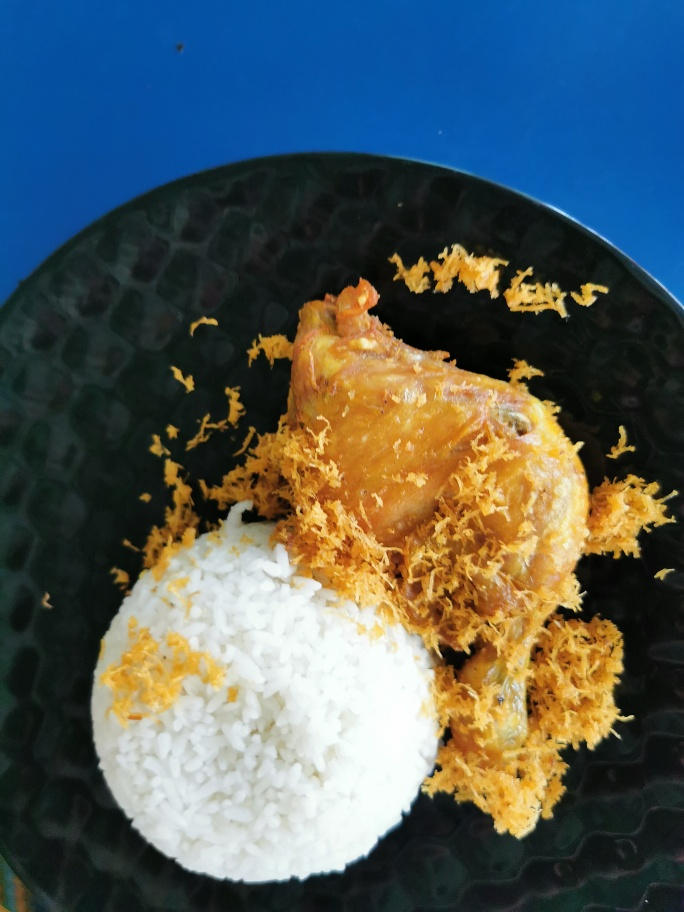ayam goreng: (259, 277, 640, 846)
nasi putih: (74, 526, 439, 876)
